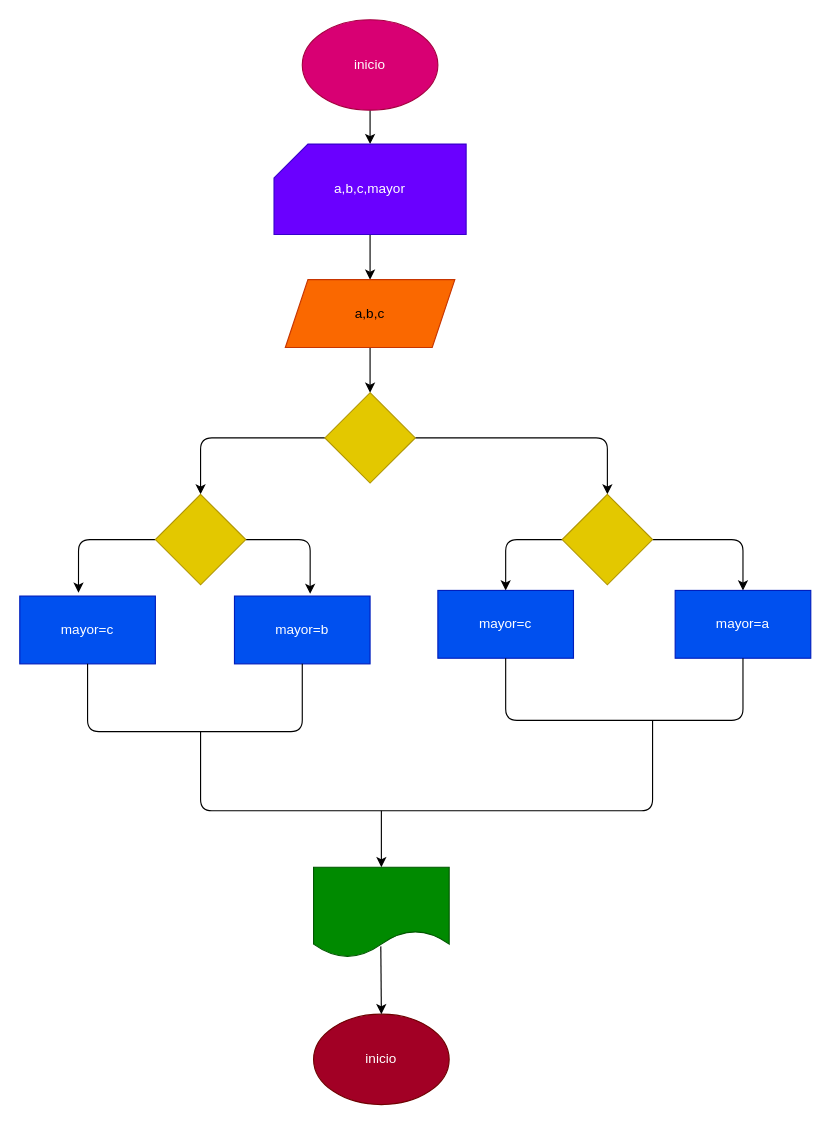
This 831x1124 diagram has some shape labels left out. Each missing label, with the centre of its shape:
a>b: (369,437)
a>c: (607,539)
b>c: (200,539)
mayor: (380,912)
